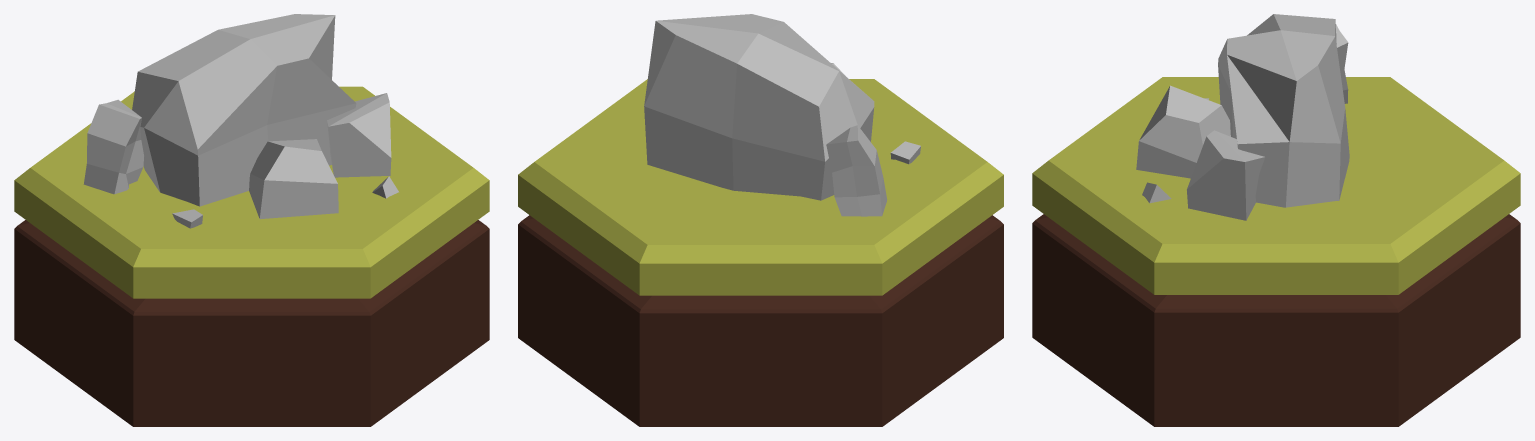
The model's file is Tile_pierres.fbx.
The picture shows the model from 3 angles, left to right: view 1: azimuth 30°, elevation 25°; view 2: azimuth 150°, elevation 25°; view 3: azimuth 270°, elevation 25°; orthographic projection. The views are drawn at different scales.
Parts seen in each view (by area): view 1: Pierre, Cube.003; view 2: Pierre, Cube.003; view 3: Pierre, Cube.003.
Boxes of the visible parts, left/top/right/bottom form: Pierre: left=14, top=86, right=489, bottom=426; Cube.003: left=83, top=14, right=398, bottom=228; Pierre: left=518, top=79, right=1003, bottom=426; Cube.003: left=644, top=14, right=920, bottom=216; Pierre: left=1032, top=77, right=1520, bottom=426; Cube.003: left=1136, top=14, right=1349, bottom=220.
Bounding box in the file's own units: 173 × 139 × 200.
